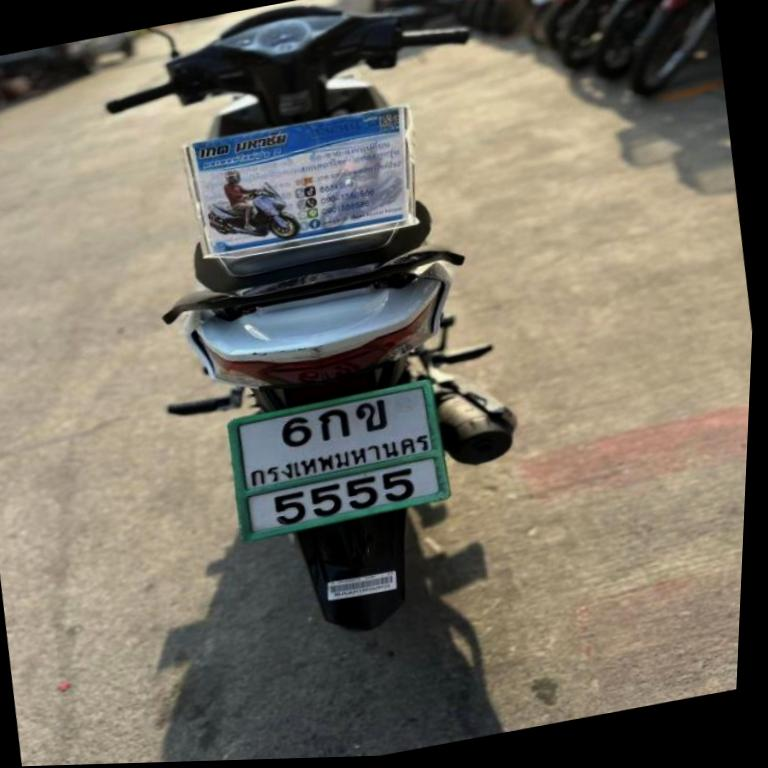license plate: (220, 372, 468, 551)
